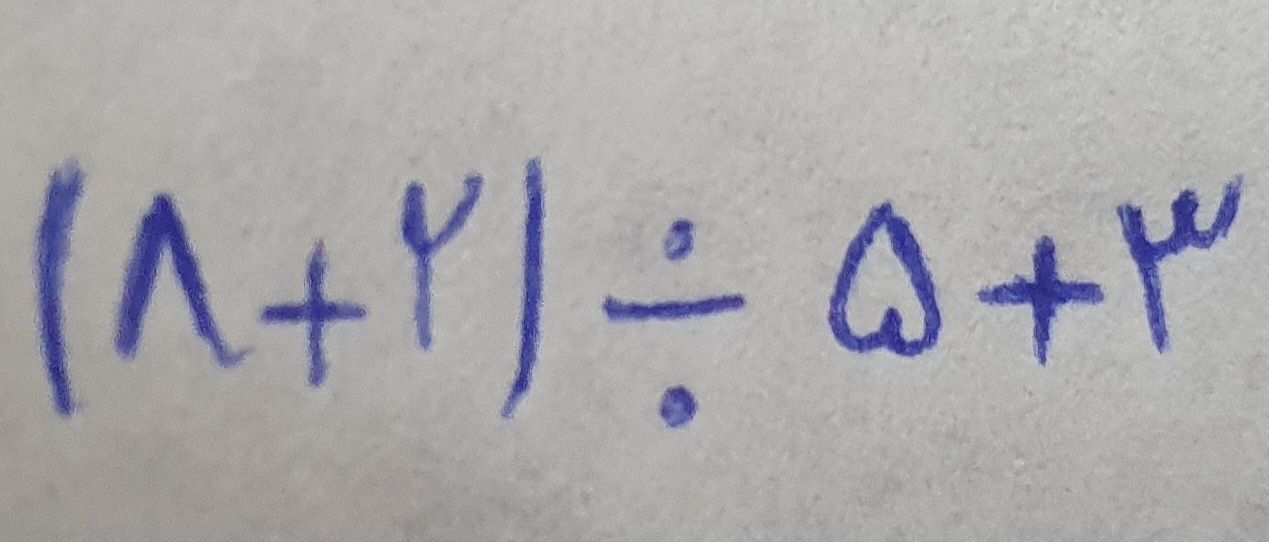character: (604, 219, 748, 428), (114, 190, 248, 368), (1117, 175, 1243, 352), (829, 201, 942, 357), (977, 234, 1106, 367), (260, 239, 368, 386), (401, 171, 485, 352), (35, 154, 90, 417), (499, 157, 548, 420)
